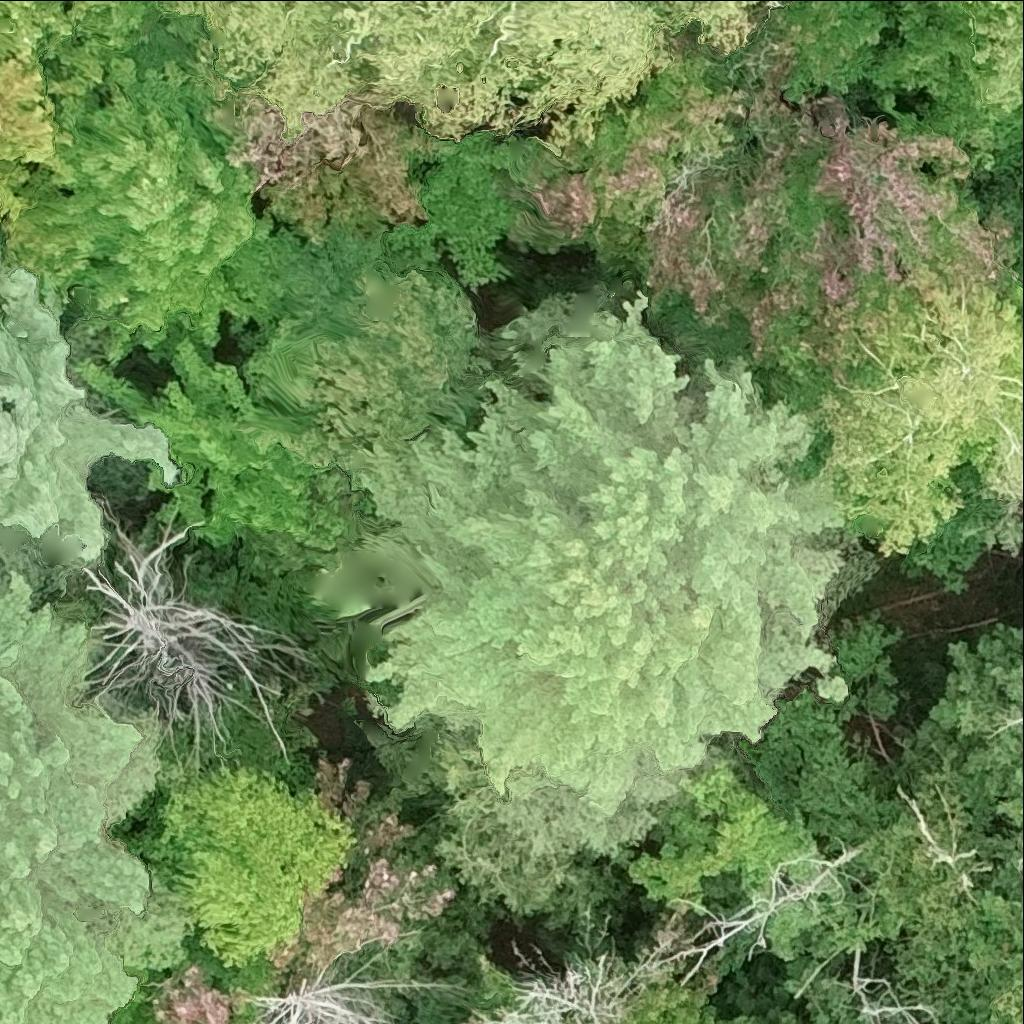crown: (343, 290, 878, 857), (541, 5, 1016, 423), (171, 0, 794, 138), (808, 269, 1023, 558), (626, 749, 813, 908), (244, 980, 397, 1023), (971, 0, 1023, 105), (618, 983, 730, 1023), (991, 982, 1023, 1023), (733, 1010, 803, 1023), (960, 0, 988, 15), (871, 0, 907, 5), (836, 1016, 861, 1023)
